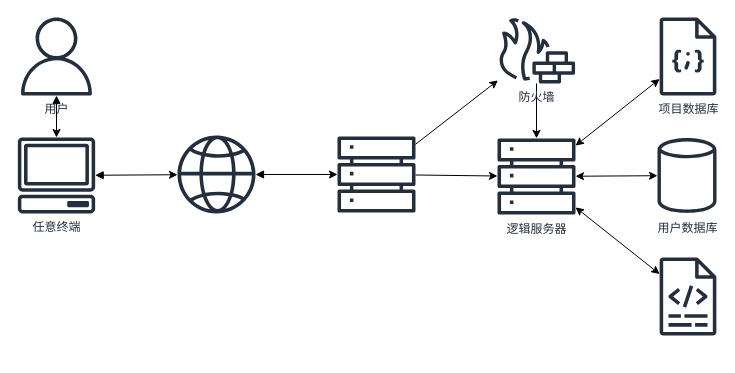
Some shapes in this 735 by 373 pixel diagram are drawn without their labels. Here are the shapes that lost their labels. From the top down, the box of each, then its label:
(177, 135, 255, 213): Internet
(337, 135, 415, 213): 前端服务器
(659, 257, 716, 335): Log
